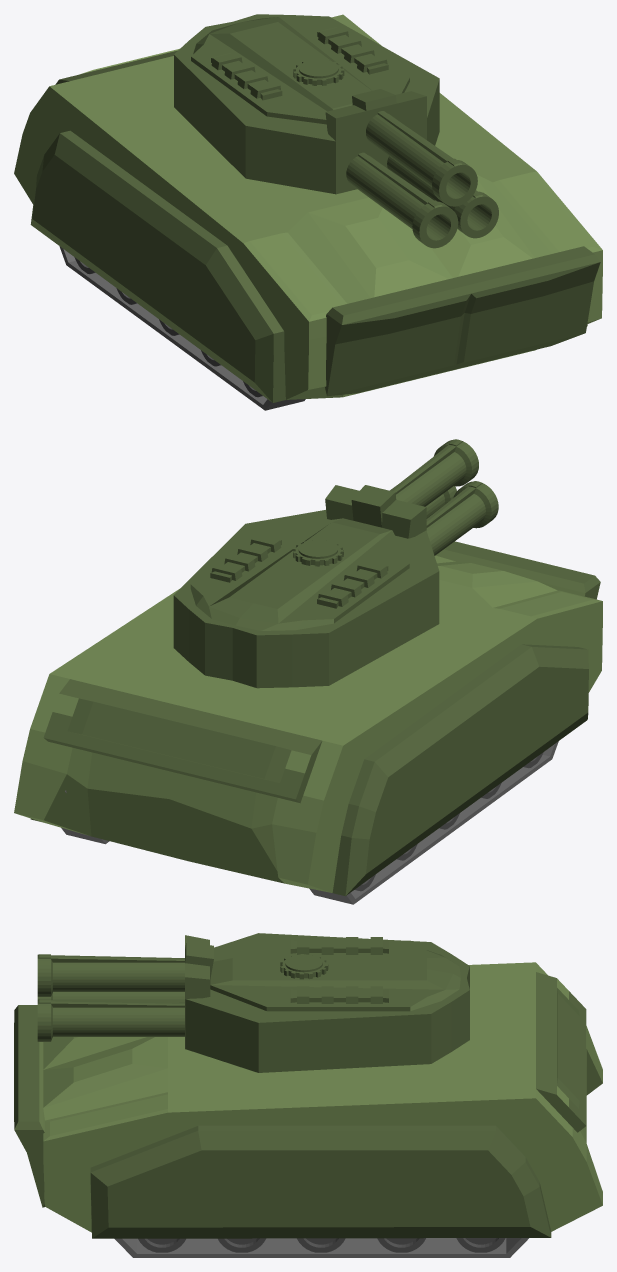
File: tier3.fbx
The picture shows the model from 3 angles, top to bottom: view 1: azimuth 30°, elevation 25°; view 2: azimuth 150°, elevation 25°; view 3: azimuth 270°, elevation 25°; orthographic projection. The views are drawn at different scales.
Parts seen in each view (by area): view 1: Body6, Turret6, Main Gun6, Tracks6, Road Wheels6; view 2: Body6, Turret6, Main Gun6, Tracks6; view 3: Body6, Turret6, Main Gun6, Tracks6, Road Wheels6.
Part boxes in pixels (x1=…): Body6: x1=14, y1=14, x2=602, y2=402; Turret6: x1=174, y1=14, x2=439, y2=194; Main Gun6: x1=325, y1=89, x2=498, y2=248; Tracks6: x1=59, y1=246, x2=305, y2=410; Road Wheels6: x1=74, y1=257, x2=262, y2=397; Body6: x1=14, y1=541, x2=602, y2=896; Turret6: x1=173, y1=510, x2=439, y2=688; Main Gun6: x1=325, y1=439, x2=498, y2=555; Tracks6: x1=61, y1=741, x2=558, y2=904; Body6: x1=14, y1=962, x2=602, y2=1238; Turret6: x1=185, y1=933, x2=469, y2=1072; Main Gun6: x1=37, y1=935, x2=213, y2=1048; Tracks6: x1=114, y1=1238, x2=528, y2=1257; Road Wheels6: x1=138, y1=1238, x2=505, y2=1252.
Size of the model in its own units: 409 by 300 by 659.
